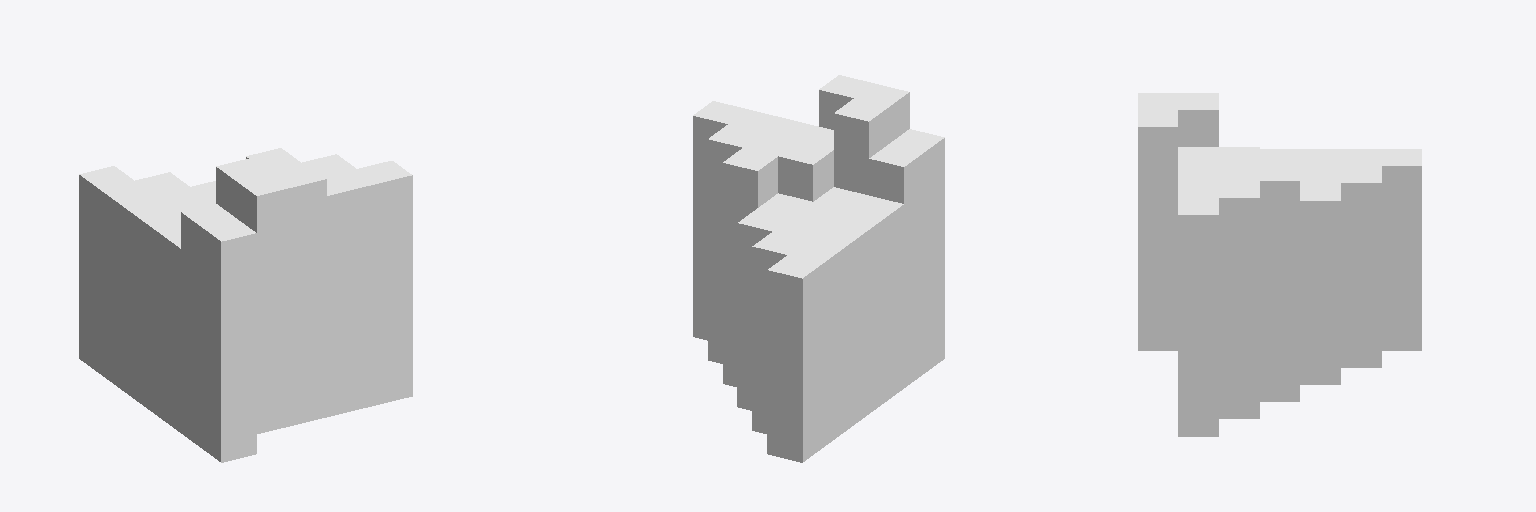
The model's file is Koala_H.obj.
The picture shows the model from 3 angles: view 1: azimuth 30°, elevation 25°; view 2: azimuth 150°, elevation 25°; view 3: azimuth 270°, elevation 25°; orthographic projection.
Parts seen in each view (by area): view 1: object 1; view 2: object 1; view 3: object 1.
Part boxes in pixels (left/top/right/bottom): object 1: left=79, top=148, right=412, bottom=462; object 1: left=693, top=75, right=944, bottom=462; object 1: left=1138, top=93, right=1421, bottom=436.
Bounding box in the file's own units: 0.6 × 0.7 × 0.7.